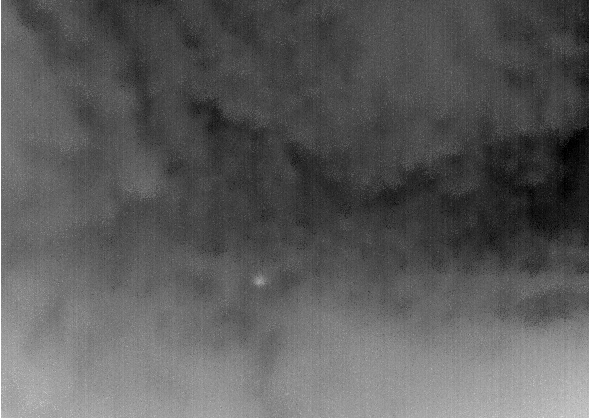dim target: (252, 274, 268, 288)
